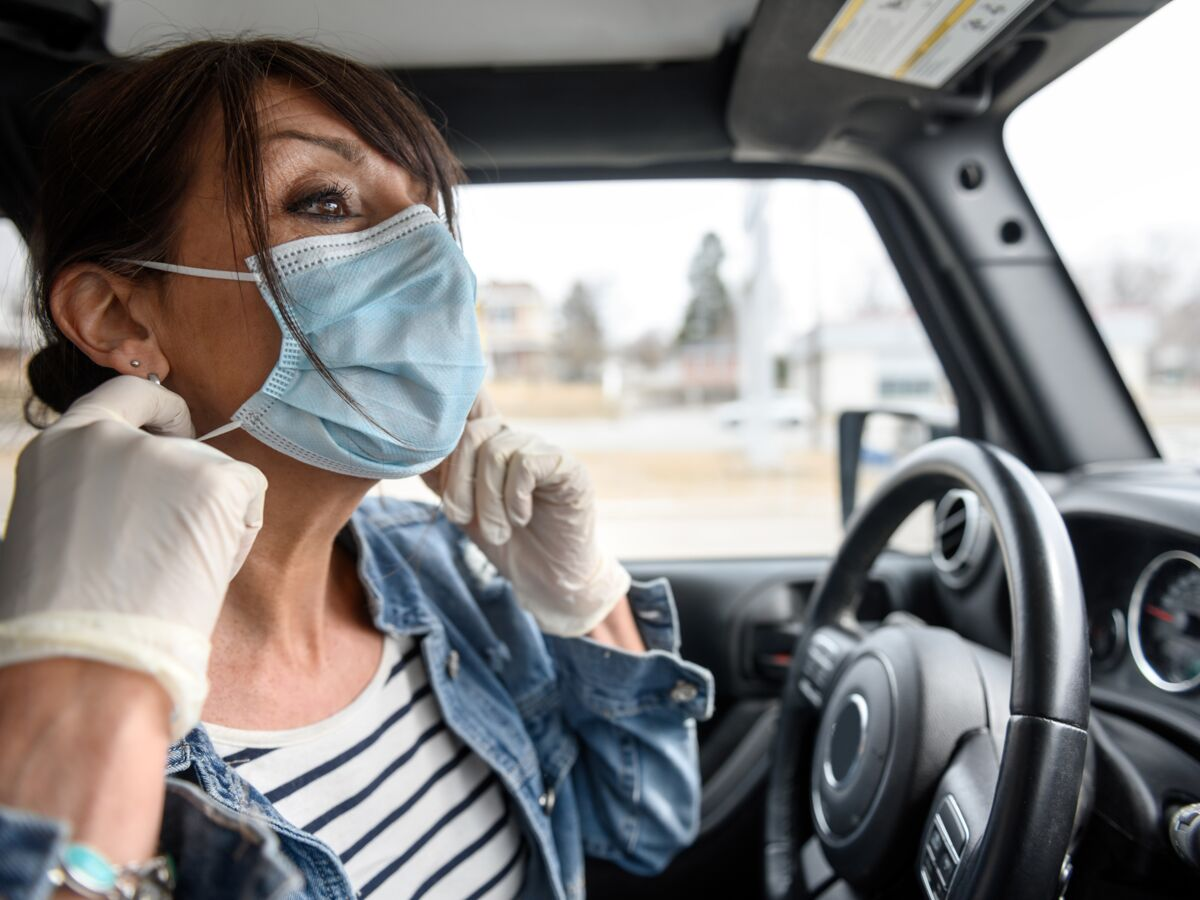with_mask: (182, 96, 496, 477)
